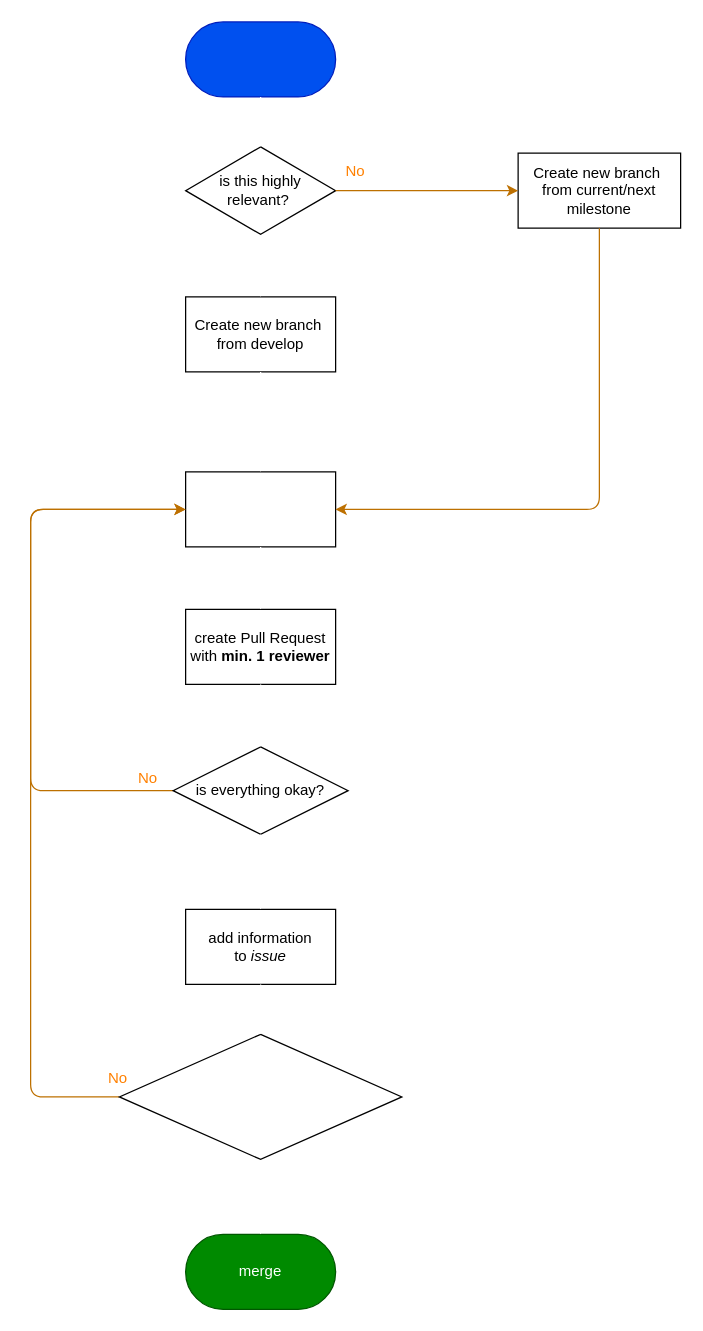
Image size: 703x1331. Some labels were removed from this diagram. The centre of each missing label's shape, as x and y in pixels:
are all the tasks done? There are no further comments/requests for changes?: (x=260, y=1096)
develop: (x=260, y=509)
New issue, enhancement, ...: (x=260, y=59)
